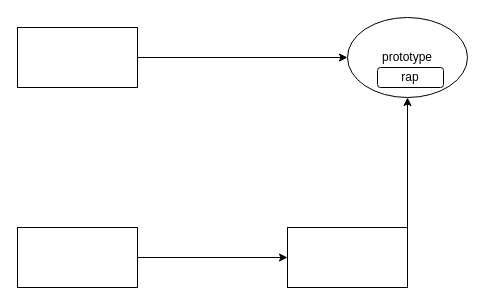
Some shapes in this 485 by 305 pixel diagram are drawn without their labels. The centre of each missing label's shape, as x and y in pixels:
Coder: the point at 77,57
Yupi: the point at 77,257
